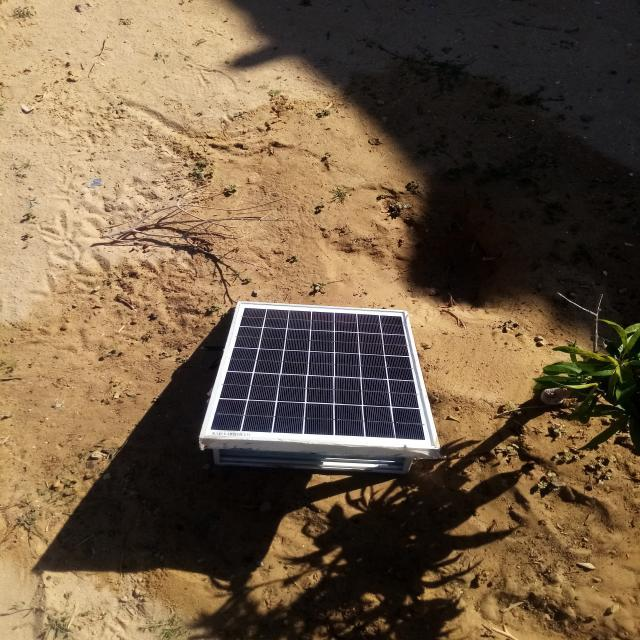no faulty: (199, 301, 441, 450)
